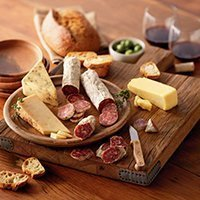sushi: (0, 39, 43, 90), (108, 37, 145, 63)
